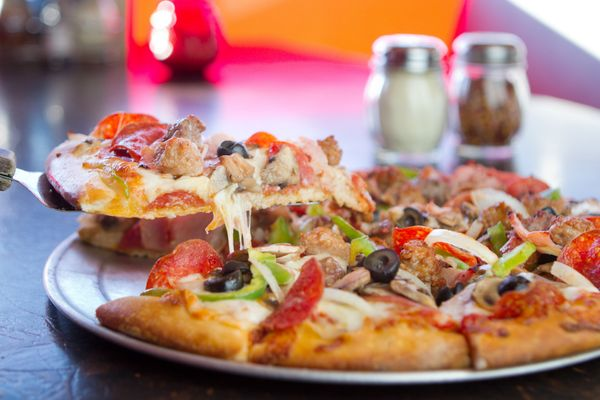burger: (450, 32, 530, 169), (364, 33, 450, 156)
curry: (0, 94, 576, 395)
sandwich: (76, 115, 600, 373)
